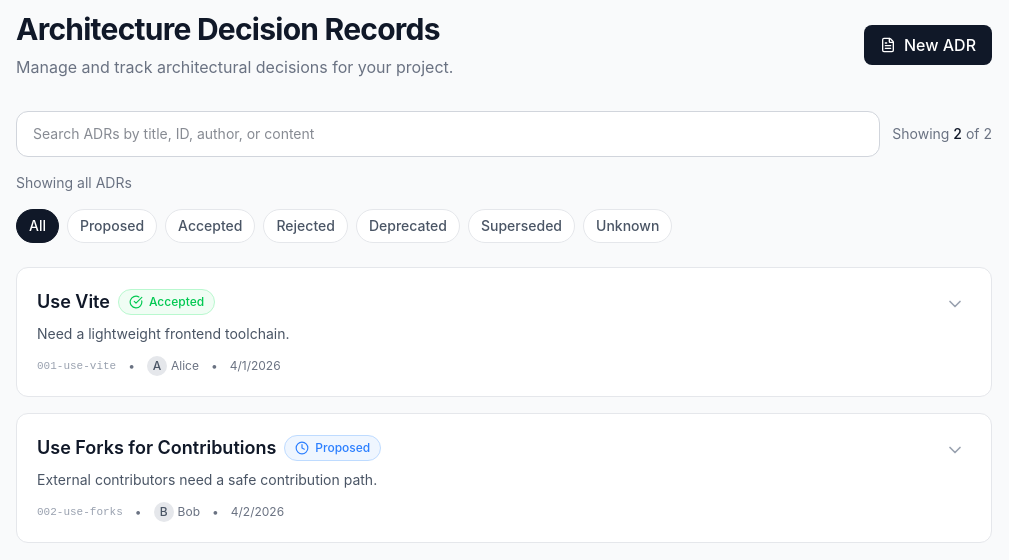
Test: AdrList › filters ADRs by search query
In the search field labelled "Search ADRs by title, ID, author, or content": (448, 134) [16,111,880,157], type "forks"
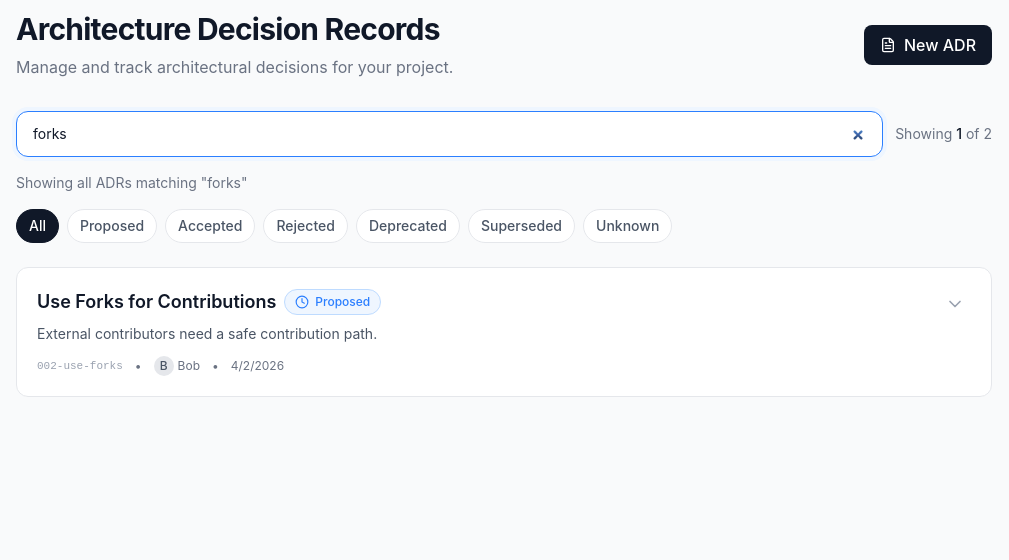
expect the heading "Use Forks for Contributions" is shown: met, box [37,288,276,316]
expect the heading "Use Vite" is gone: met
